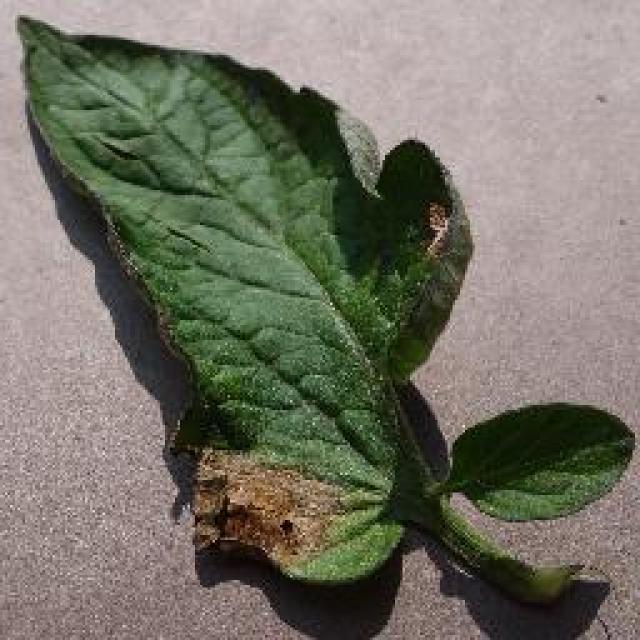Tomato_Late_Blight: (162, 445, 352, 577), (368, 124, 489, 327)
